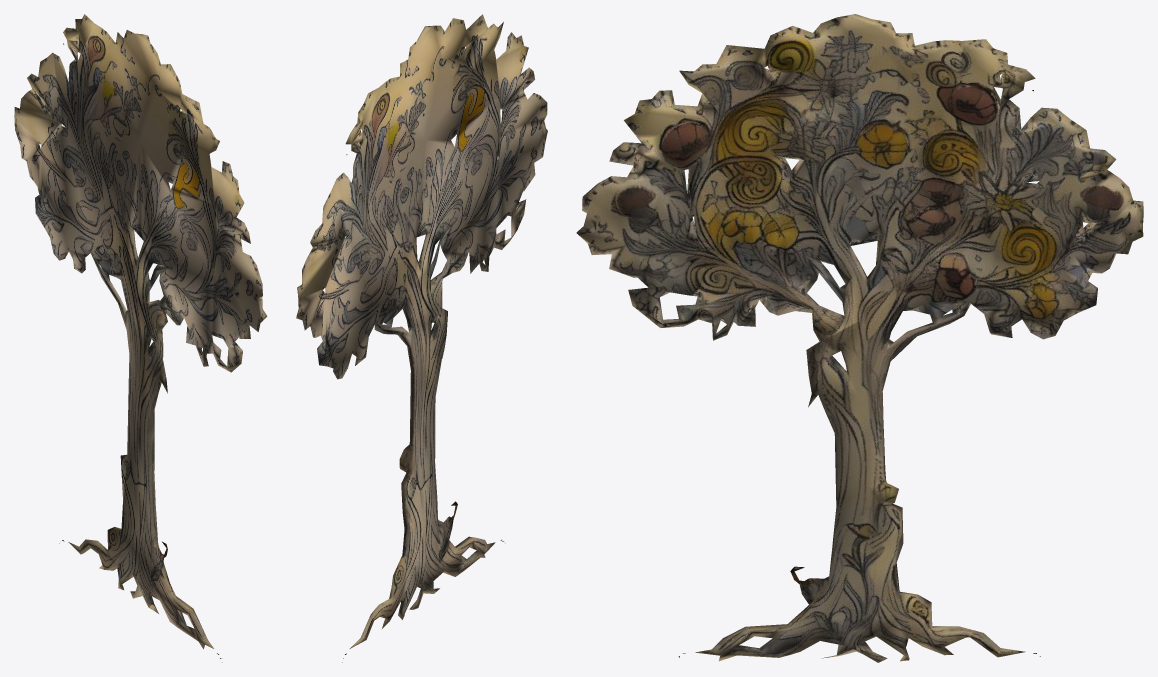
Rendered from demo_tree_mucha.glb.
The picture shows the model from 3 angles, left to right: view 1: azimuth 30°, elevation 25°; view 2: azimuth 150°, elevation 25°; view 3: azimuth 270°, elevation 25°; orthographic projection. The views are drawn at different scales.
Parts seen in each view (by area): view 1: tripo_node_4891a10c-31a2-4962-9fa5-7995ebaeb02c.001; view 2: tripo_node_4891a10c-31a2-4962-9fa5-7995ebaeb02c.001; view 3: tripo_node_4891a10c-31a2-4962-9fa5-7995ebaeb02c.001.
Boxes of the visible parts, x1,y1,x2,y2 form: tripo_node_4891a10c-31a2-4962-9fa5-7995ebaeb02c.001: (14, 14, 267, 662); tripo_node_4891a10c-31a2-4962-9fa5-7995ebaeb02c.001: (296, 14, 547, 662); tripo_node_4891a10c-31a2-4962-9fa5-7995ebaeb02c.001: (576, 14, 1143, 662).
Bounding box in the file's own units: 0.0252 × 0.9901 × 0.7868.
1 material, 1 textured.
